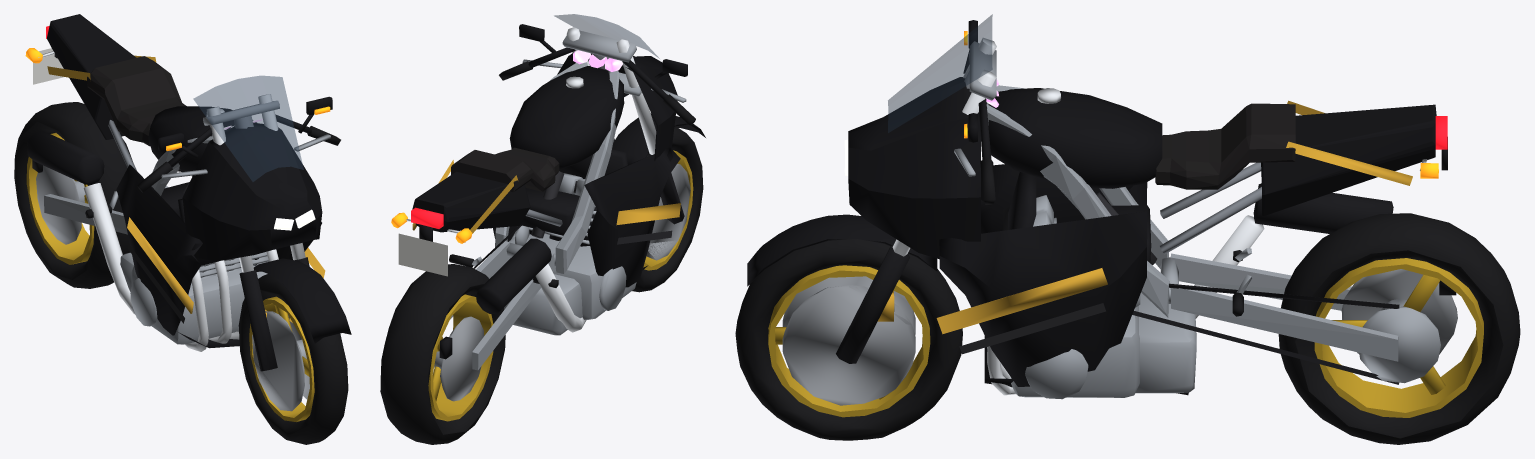
Rendered from phantom-x1000_lod1.glb.
3 views of the same model, side by side, from view 1: azimuth 30°, elevation 25°; view 2: azimuth 150°, elevation 25°; view 3: azimuth 270°, elevation 25° (orthographic). The views are drawn at different scales.
Visible parts, largest first — view 1: LOD1; view 2: LOD1; view 3: LOD1.
Part boxes in pixels (x1,y1,x2,y2): LOD1: [14, 14, 351, 444]; LOD1: [380, 14, 705, 444]; LOD1: [735, 14, 1520, 444].
Size of the model in its own units: 0.7854 by 1.19 by 2.07.
